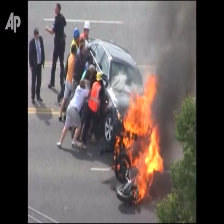fire_h: (123, 69, 163, 201)
fire_l: (113, 135, 120, 161), (116, 158, 129, 170)
